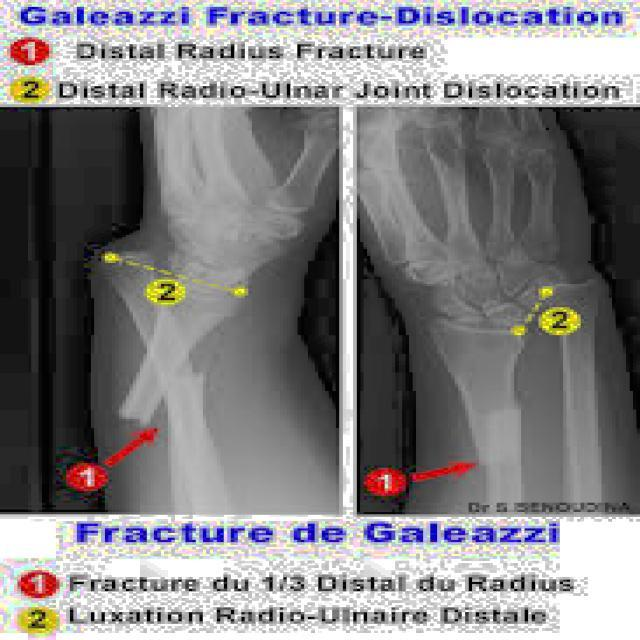Fracture Dislocation: (492, 277, 604, 364), (125, 364, 214, 424)
